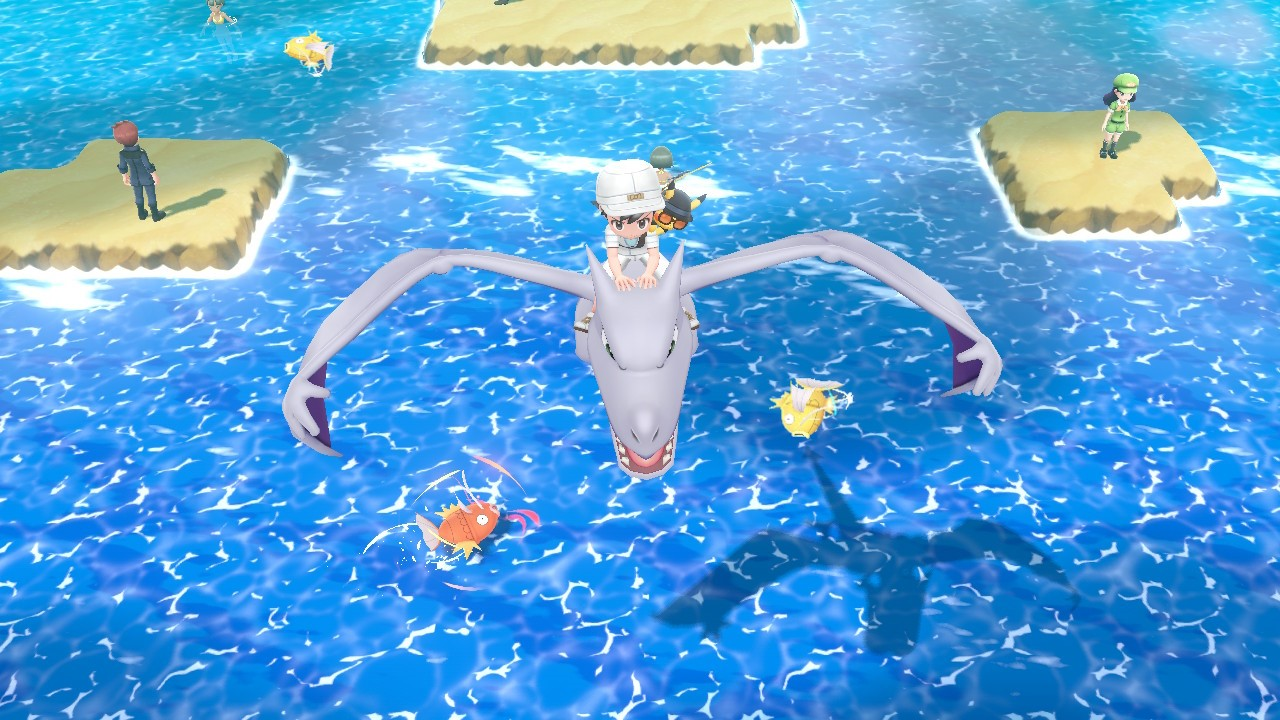Golden: (768, 374, 849, 442), (282, 27, 336, 78)
Red: (417, 493, 501, 557)
